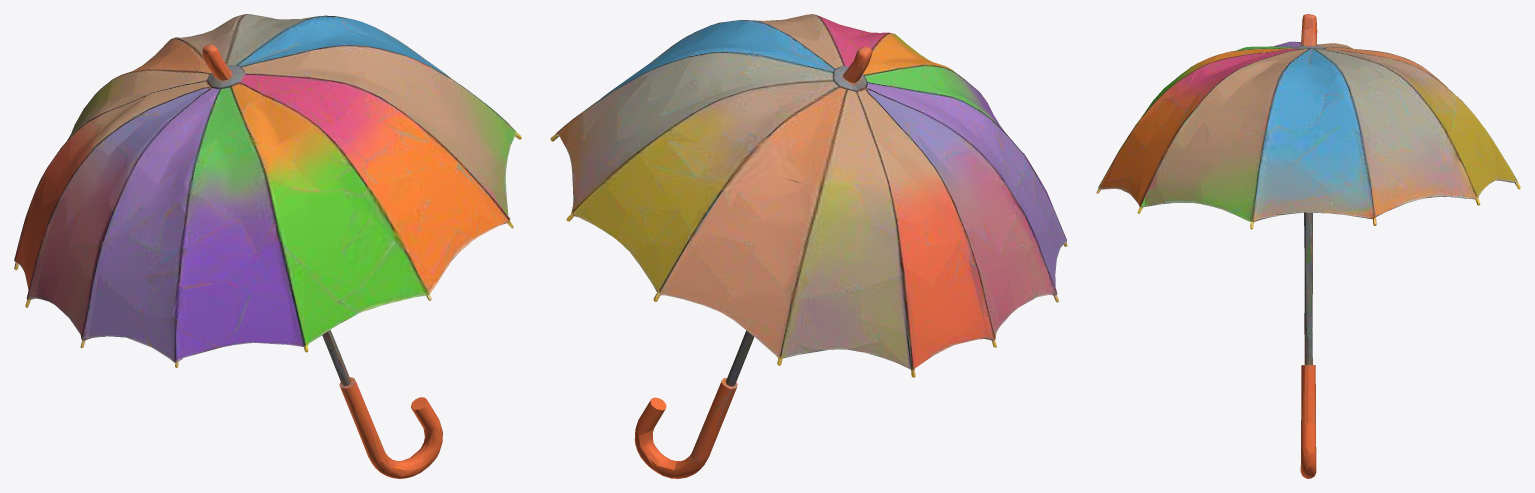
Rendered from umbrella.glb.
3 renders of one model, left to right at view 1: azimuth 30°, elevation 25°; view 2: azimuth 150°, elevation 25°; view 3: azimuth 270°, elevation 25°, orthographic. The views are drawn at different scales.
Size of the model in its own units: 1.82 by 1.9 by 1.9.
1 material, 1 textured.
